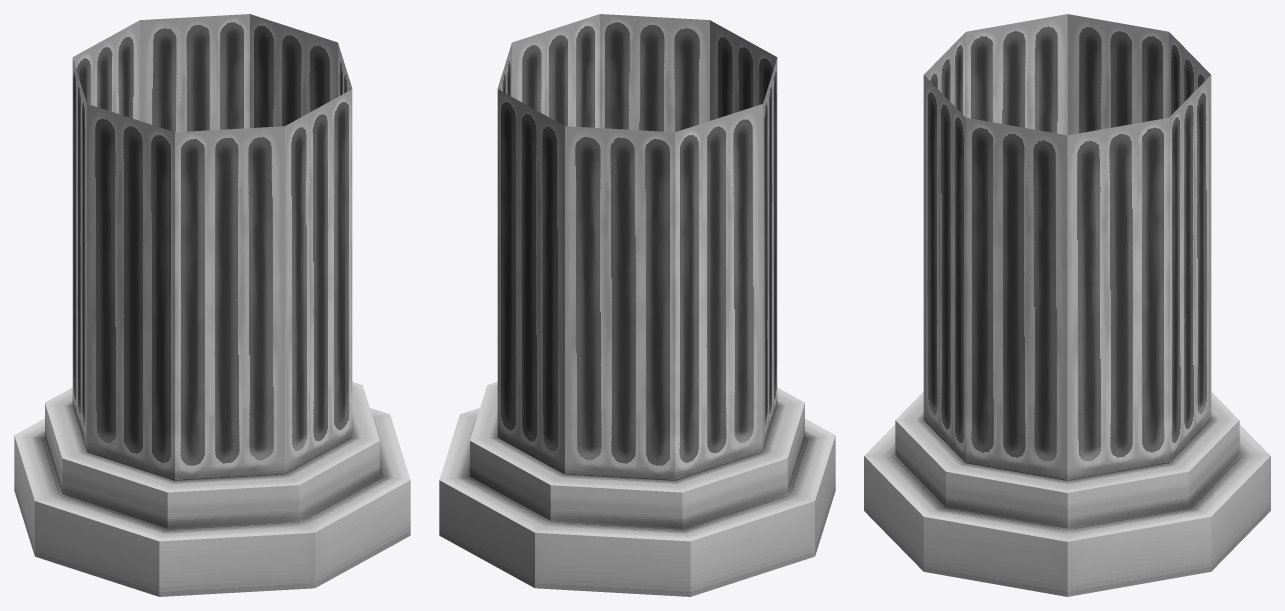
The model's file is Colonna1.glb.
The picture shows the model from 3 angles, left to right: view 1: azimuth 30°, elevation 25°; view 2: azimuth 150°, elevation 25°; view 3: azimuth 270°, elevation 25°; orthographic projection.
Parts seen in each view (by area): view 1: Colonna_01; view 2: Colonna_01; view 3: Colonna_01.
Part boxes in pixels (<box>): Colonna_01: <box>14,14,410,596</box>; Colonna_01: <box>439,14,835,596</box>; Colonna_01: <box>864,14,1270,596</box>.
Bounding box in the file's own units: 3.91 × 4.63 × 3.91.
1 material, 1 textured.
